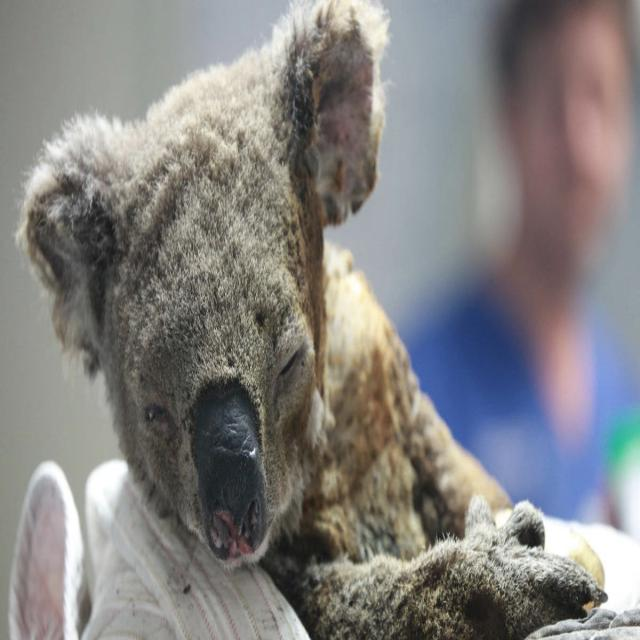koala: (17, 0, 605, 639)
